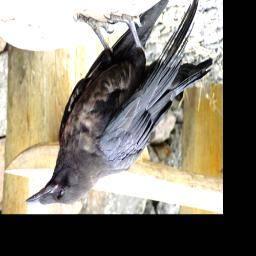Crow: (24, 0, 214, 208)
